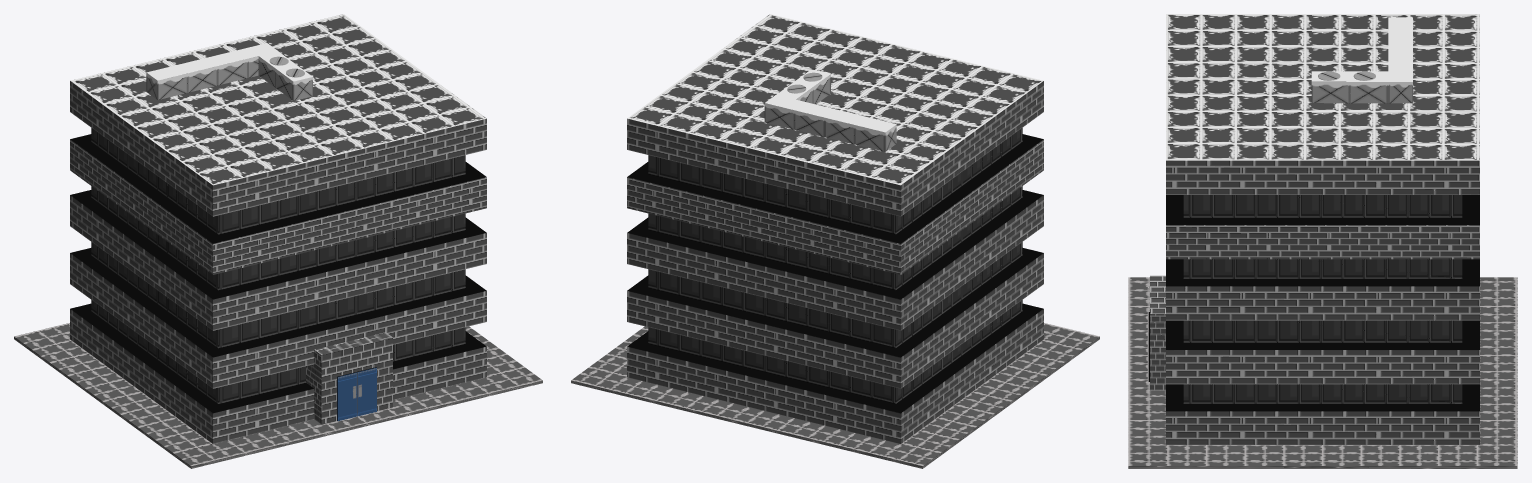
Rendered from Research (PixelArt).fbx.
3 renders of one model, left to right at view 1: azimuth 30°, elevation 25°; view 2: azimuth 150°, elevation 25°; view 3: azimuth 270°, elevation 25°, orthographic. The views are drawn at different scales.
Visible parts, largest first — view 1: Cube.008, Cube.013, Cube.015, Cube.011, Ground, Floor1.001, Cube.016, Cube.012, Cube.014, Cube.009, Cube.018, Cube.010; view 2: Cube.008, Cube.013, Cube.015, Cube.011, Floor1.001, Ground, Cube.016, Cube.012, Cube.010, Cube.014, Cube.009; view 3: Cube.008, Ground, Cube.011, Cube.015, Cube.013, Floor1.001, Cube.016, Cube.012, Cube.010, Cube.014, Cube.009, Cube.018.
Boxes of the visible parts, x1,y1,x2,y2 form: Cube.008: (70, 14, 486, 421); Cube.013: (70, 190, 486, 330); Cube.015: (70, 134, 486, 274); Cube.011: (70, 248, 486, 388); Ground: (14, 323, 542, 468); Floor1.001: (70, 303, 486, 443); Cube.016: (91, 128, 465, 234); Cube.012: (91, 242, 465, 348); Cube.014: (91, 186, 465, 290); Cube.009: (146, 43, 312, 100); Cube.018: (306, 332, 392, 424); Cube.010: (91, 300, 465, 403); Cube.008: (627, 14, 1043, 216); Cube.013: (627, 190, 1043, 330); Cube.015: (627, 134, 1043, 274); Cube.011: (627, 248, 1043, 388); Floor1.001: (627, 303, 1043, 443); Ground: (571, 323, 1099, 468); Cube.016: (648, 128, 1022, 234); Cube.012: (648, 242, 1022, 348); Cube.010: (648, 300, 1022, 403); Cube.014: (648, 186, 1022, 290); Cube.009: (764, 69, 896, 151); Cube.008: (1148, 14, 1479, 381); Ground: (1128, 277, 1517, 468); Cube.011: (1166, 320, 1479, 384); Cube.015: (1166, 195, 1479, 259); Cube.013: (1166, 259, 1479, 320); Floor1.001: (1166, 384, 1479, 444); Cube.016: (1183, 195, 1462, 217); Cube.012: (1183, 320, 1462, 342); Cube.010: (1183, 384, 1462, 403); Cube.014: (1183, 259, 1462, 278); Cube.009: (1311, 17, 1412, 103); Cube.018: (1150, 275, 1165, 390).
Bounding box in the file's own units: 2061 × 1577 × 1799.
